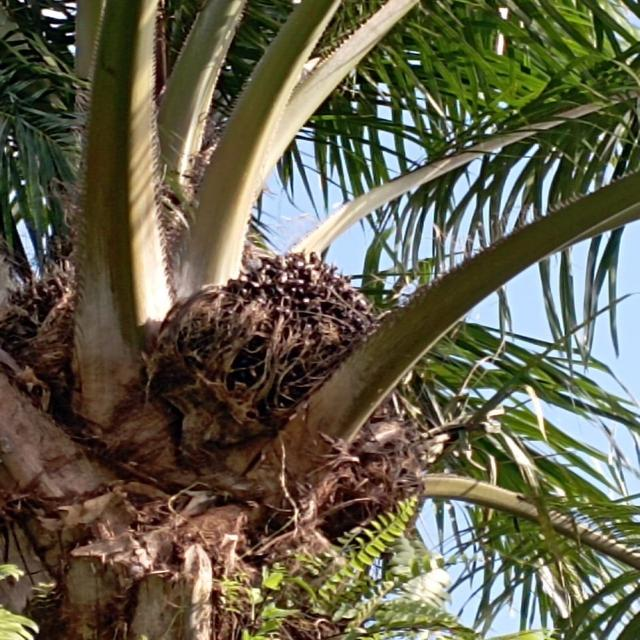fraksi 00: (176, 219, 447, 410)
